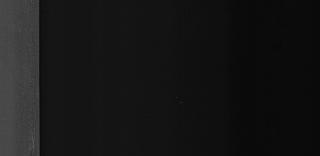silk spot: (22, 91, 38, 151)
